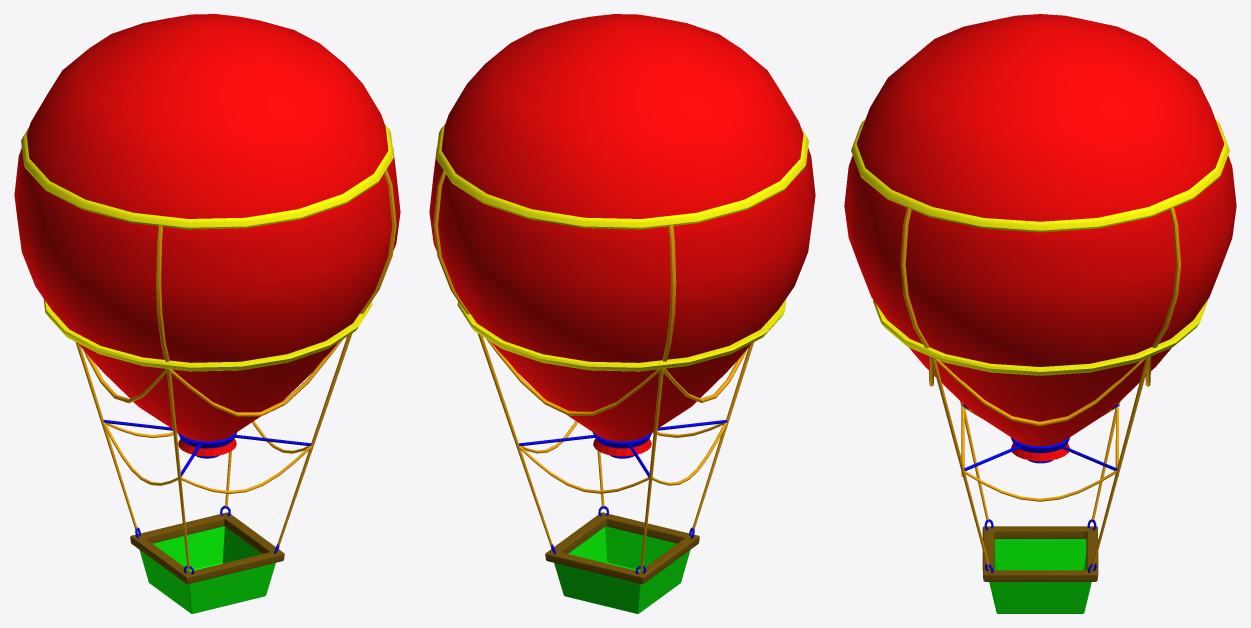
File: hotairbaloon.fbx
3 views of the same model, side by side, from view 1: azimuth 30°, elevation 25°; view 2: azimuth 150°, elevation 25°; view 3: azimuth 270°, elevation 25° (orthographic).
Visible parts, largest first — view 1: polySurface1; view 2: polySurface1; view 3: polySurface1.
Part boxes in pixels (x1,y1,x2,y2): polySurface1: [14, 14, 400, 613]; polySurface1: [429, 14, 815, 613]; polySurface1: [844, 14, 1236, 613].
Bounding box in the file's own units: 24.3 × 38.81 × 24.3.
